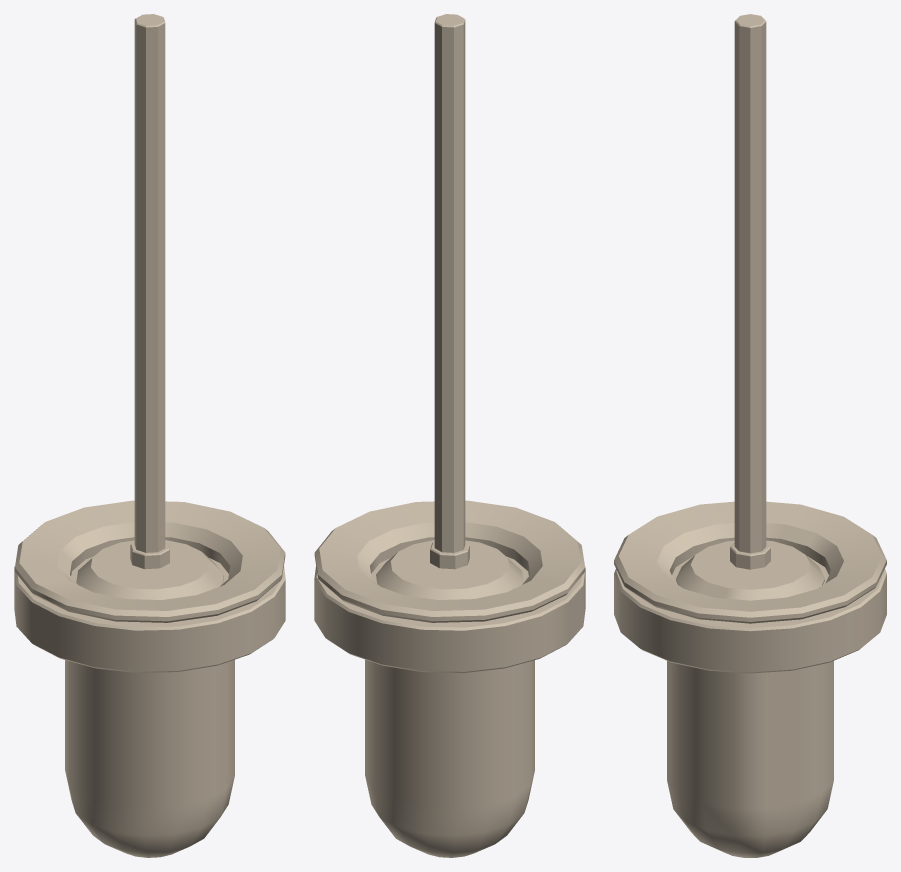
The model's file is toilet_brush_1_28_L.fbx.
3 renders of one model, left to right at view 1: azimuth 30°, elevation 25°; view 2: azimuth 150°, elevation 25°; view 3: azimuth 270°, elevation 25°, orthographic.
Visible parts, largest first — view 1: toilet_brush_1_28_L; view 2: toilet_brush_1_28_L; view 3: toilet_brush_1_28_L.
Part boxes in pixels (x1,y1,x2,y2): toilet_brush_1_28_L: [14, 14, 285, 857]; toilet_brush_1_28_L: [314, 14, 585, 857]; toilet_brush_1_28_L: [614, 14, 886, 857].
Bounding box in the file's own units: 2.58 × 8.6 × 2.58.
